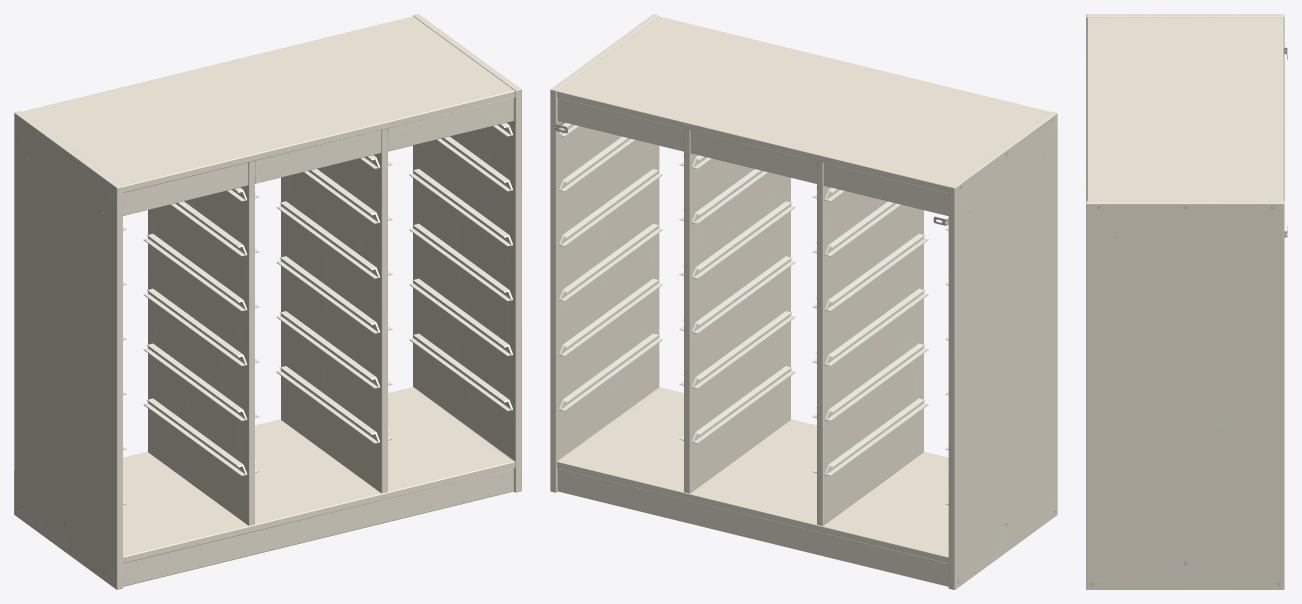
3 renders of one model, left to right at view 1: azimuth 30°, elevation 25°; view 2: azimuth 150°, elevation 25°; view 3: azimuth 270°, elevation 25°, orthographic. The views are drawn at different scales.
Visible parts, largest first — view 1: ASY_ART_10615395_S01_NV01; view 2: ASY_ART_10615395_S01_NV01; view 3: ASY_ART_10615395_S01_NV01.
Boxes of the visible parts, bbox=[...] form: ASY_ART_10615395_S01_NV01: bbox=[14, 14, 521, 589]; ASY_ART_10615395_S01_NV01: bbox=[550, 14, 1057, 589]; ASY_ART_10615395_S01_NV01: bbox=[1086, 14, 1287, 589].
Bounding box in the file's own units: 0.9882 × 0.9375 × 0.4432.
1 material, 1 textured.
